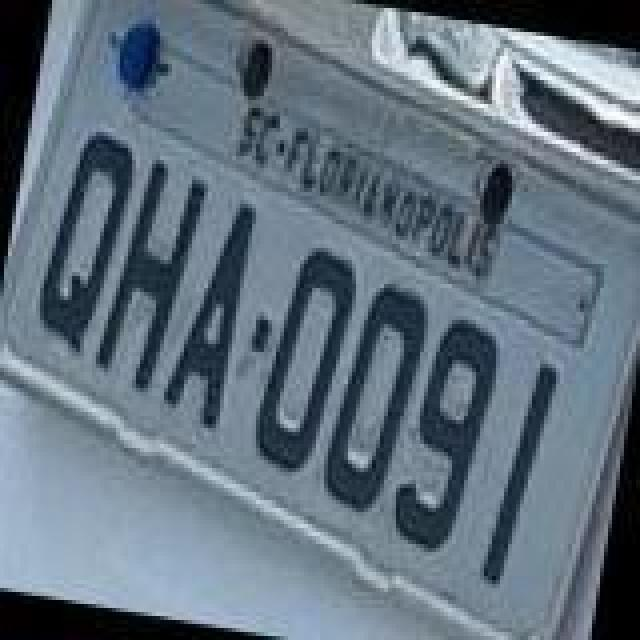1: (478, 352, 562, 592)
9: (388, 310, 508, 562)
A: (158, 192, 258, 432)
H: (92, 154, 212, 398)
O: (318, 280, 434, 520), (246, 242, 362, 478)
Q: (32, 126, 144, 362)
